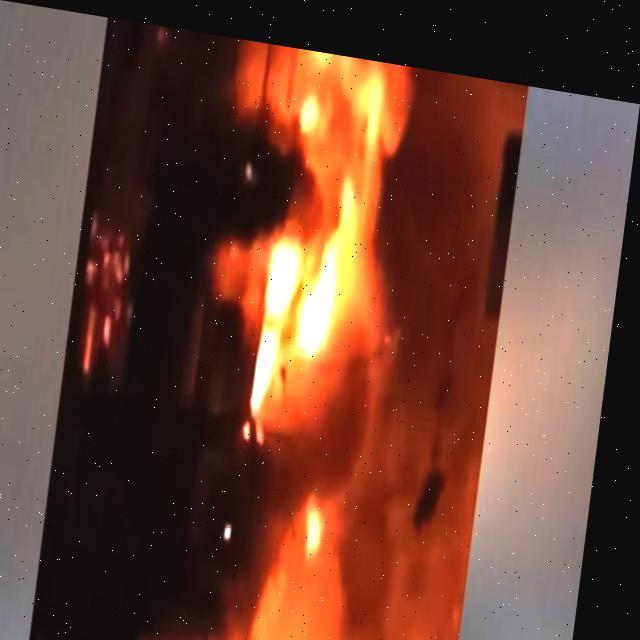Fire: (178, 39, 426, 639)
